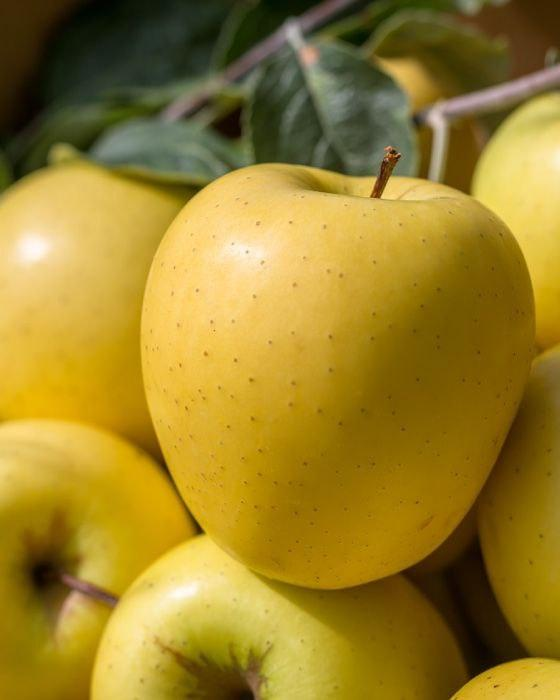Apple: (137, 161, 540, 592)
